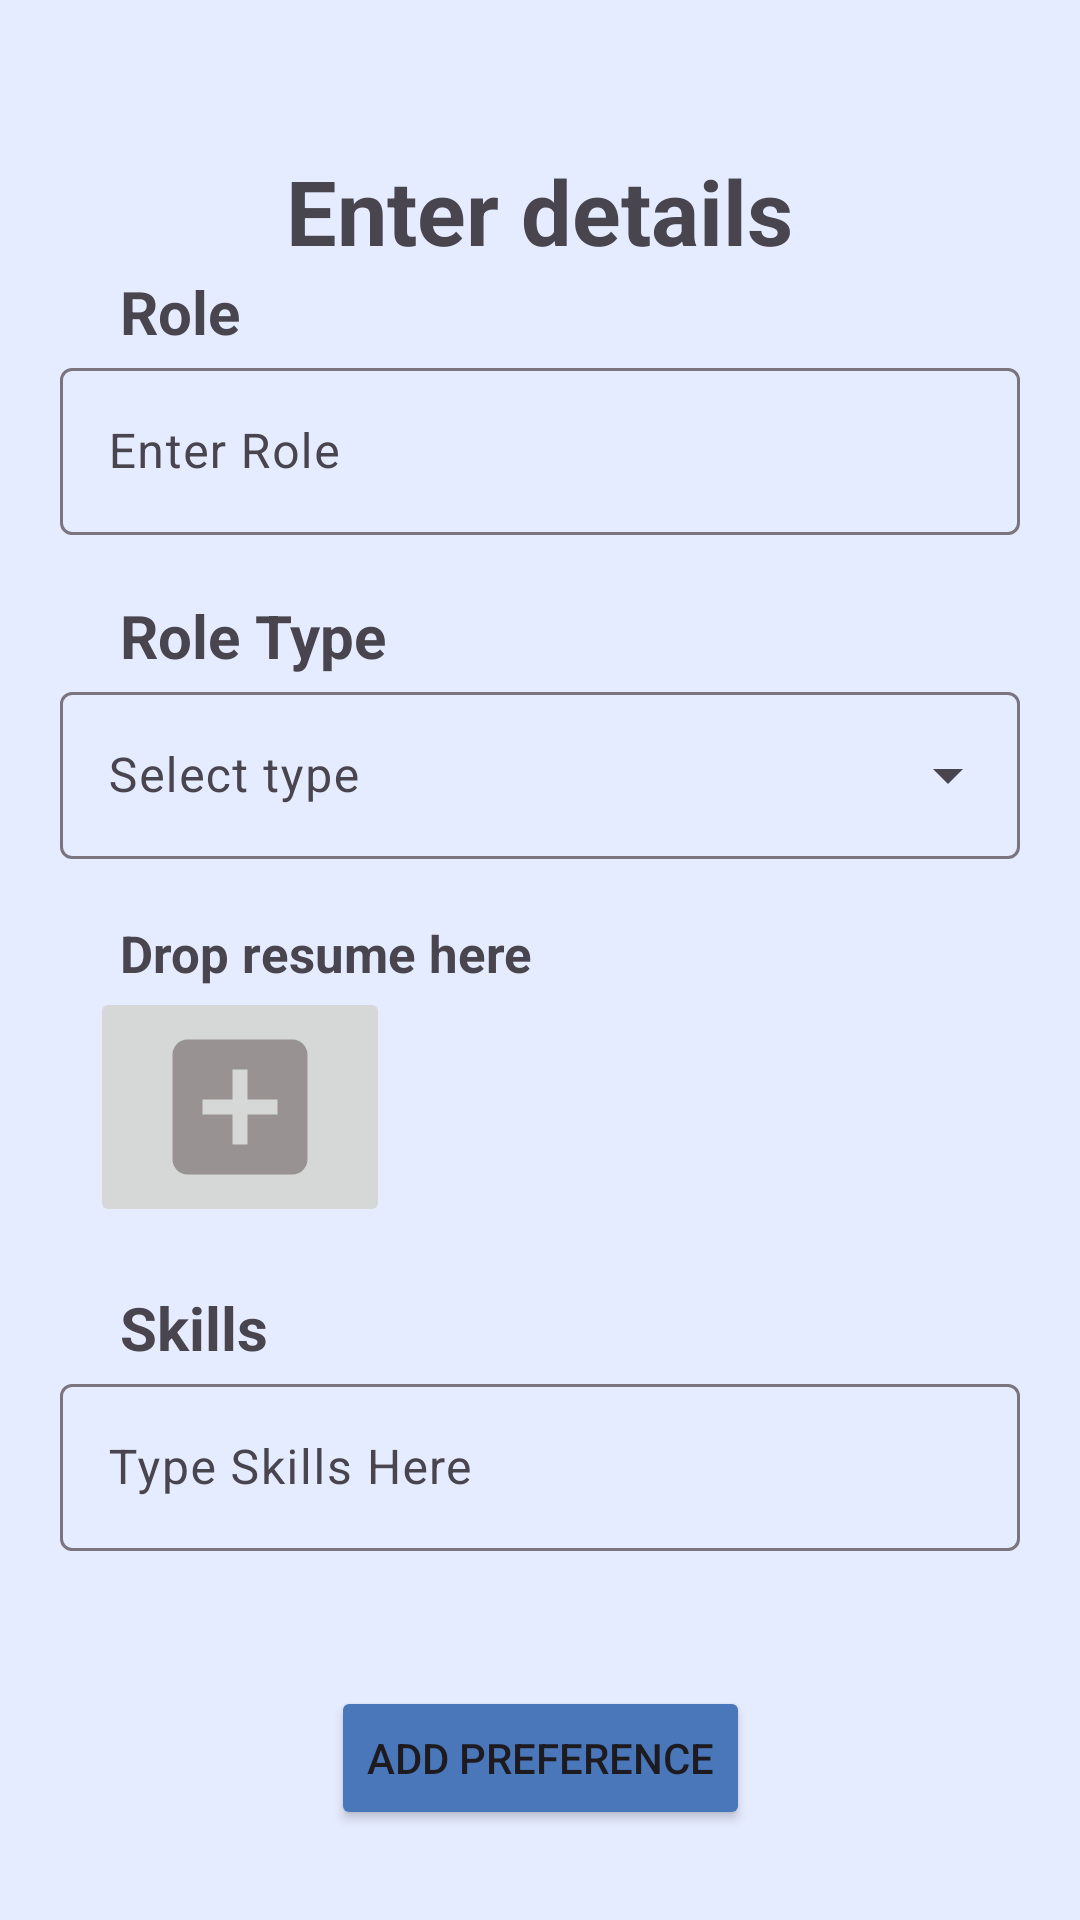

Icons on this 1080 x 1920 Android screen, each with its box as (x1, y1, x2, y2):
Add Image 1: (102, 1005, 378, 1209)
